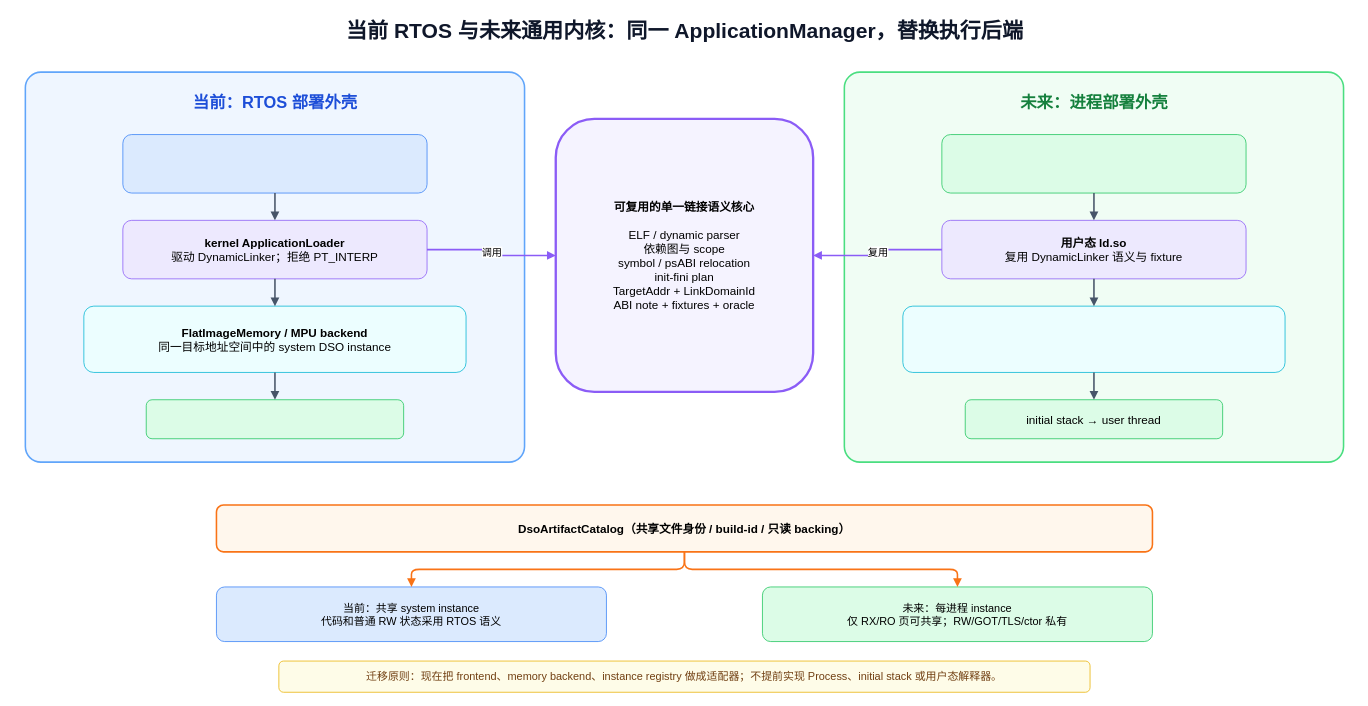
Image size: 1368x706. Some labels were removed from this diagram. Each missing label, with the box of its shape:
application::process / exec stage0 Process / AddressSpace；映射 main + PT_INTERP: (941, 134, 1246, 193)
application::thread_group 统一准入 / ThreadGroup / 生命周期: (122, 134, 427, 193)
ApplicationStartInfo → RTOS thread: (145, 399, 404, 439)
ProcessImageMemory mmap / mprotect / COW；每进程 DSO instance: (902, 305, 1285, 372)
